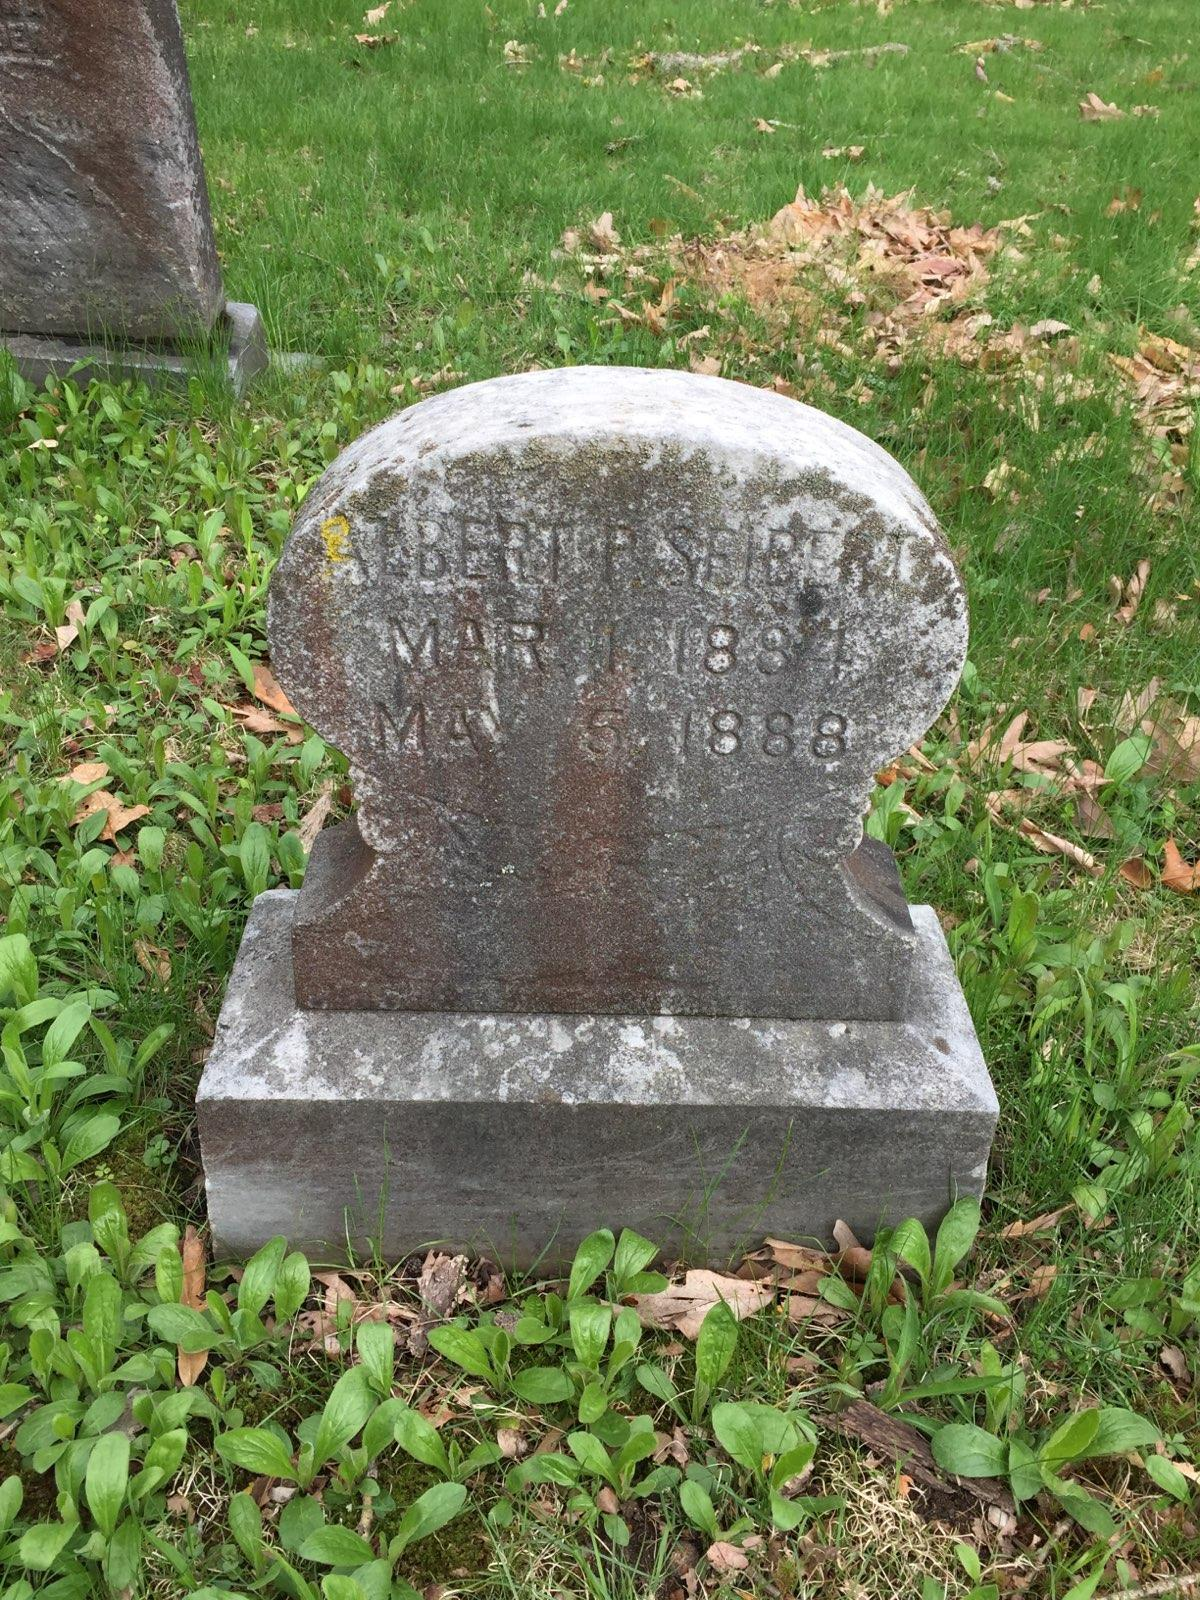upright: (260, 363, 968, 1031)
